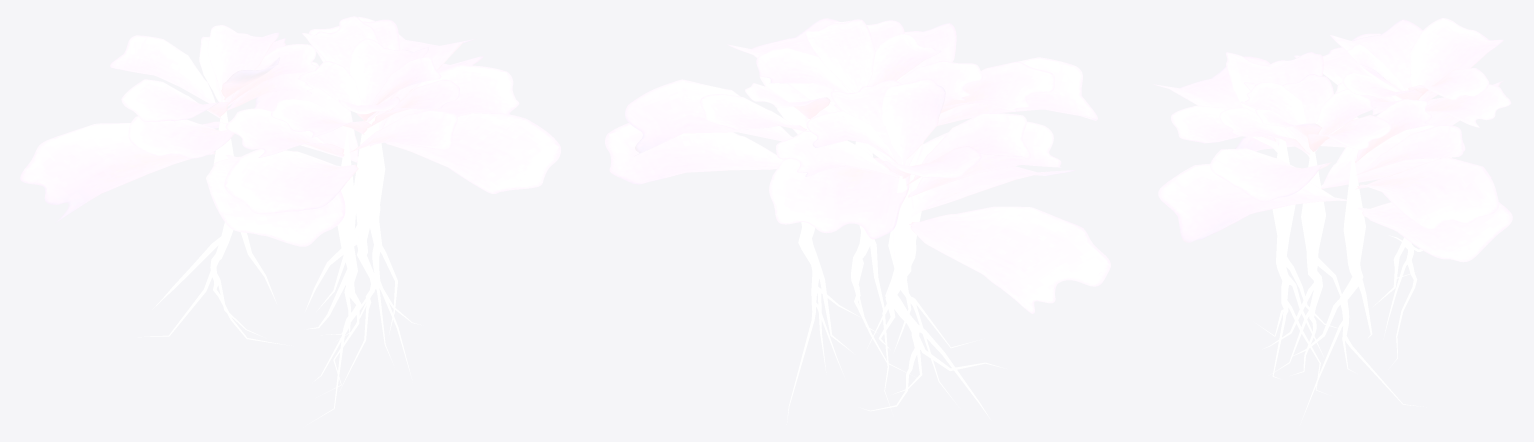
3 views of the same model, side by side, from view 1: azimuth 30°, elevation 25°; view 2: azimuth 150°, elevation 25°; view 3: azimuth 270°, elevation 25° (orthographic). The views are drawn at different scales.
Parts seen in each view (by area): view 1: SM_Water_Lettuce_02_LOD0; view 2: SM_Water_Lettuce_02_LOD0; view 3: SM_Water_Lettuce_02_LOD0.
Boxes of the visible parts, x1,y1,x2,y2 form: SM_Water_Lettuce_02_LOD0: [20, 16, 560, 424]; SM_Water_Lettuce_02_LOD0: [605, 18, 1110, 424]; SM_Water_Lettuce_02_LOD0: [1153, 18, 1512, 424].
Bounding box in the file's own units: 0.9237 × 0.6499 × 0.6719.
Materials: 1 (1 with a texture image).
